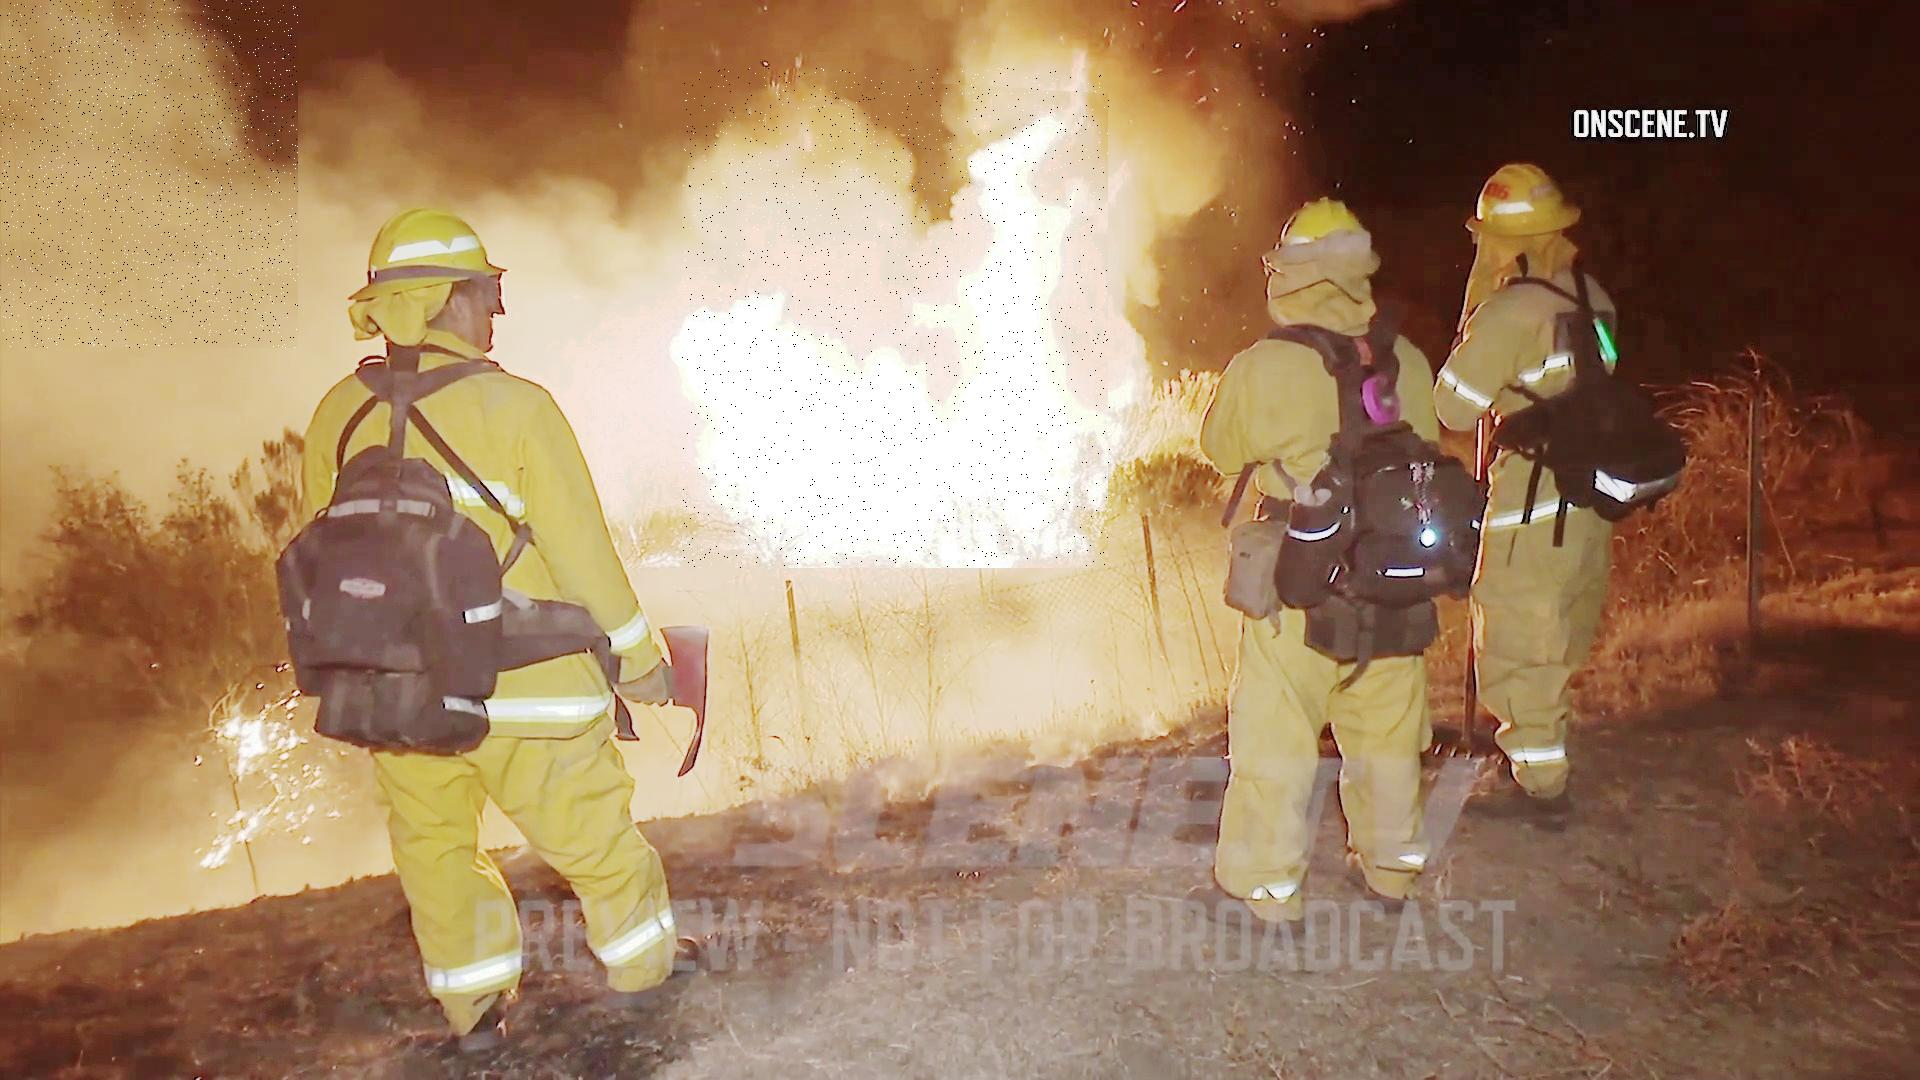fire: (683, 69, 1110, 568)
smoke: (0, 0, 298, 348)
